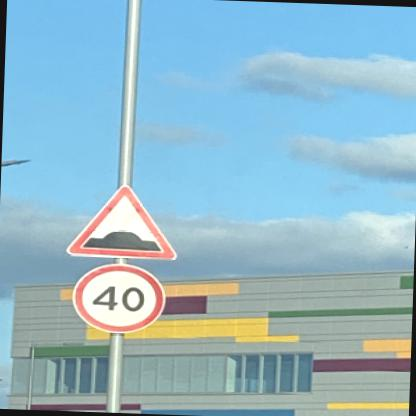speedlimit: (70, 262, 164, 334)
